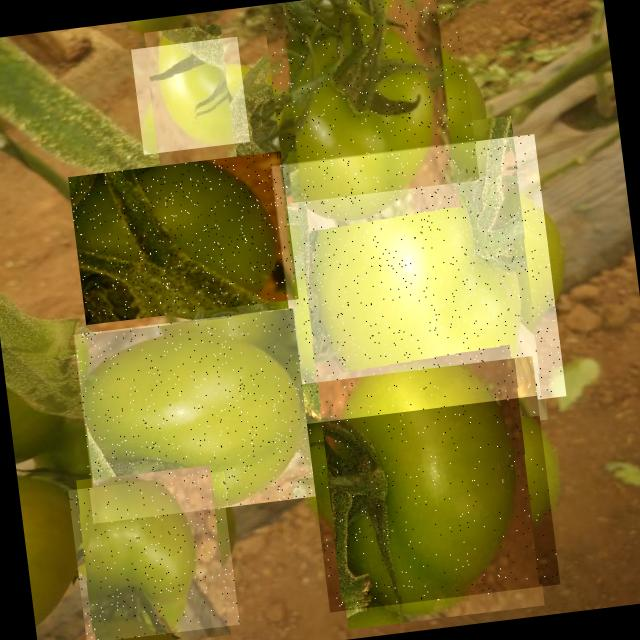Unripe Tomato: (271, 134, 566, 428), (301, 356, 560, 615), (70, 307, 316, 523), (263, 0, 479, 203), (68, 150, 298, 324), (67, 471, 239, 640), (130, 36, 250, 154)
